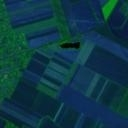alloviz: (59, 41, 81, 49)
